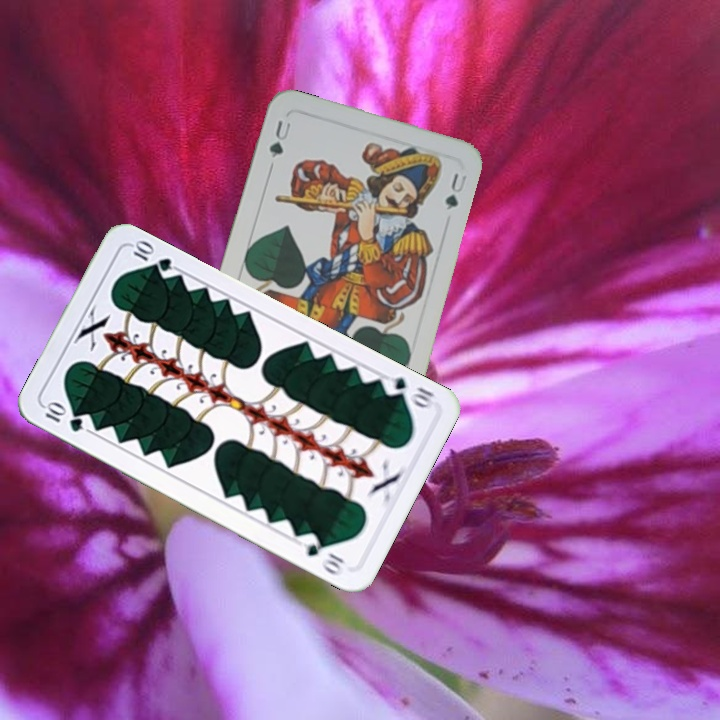G10: (378, 371, 437, 412), (40, 399, 86, 435)
GU: (265, 116, 293, 161)
